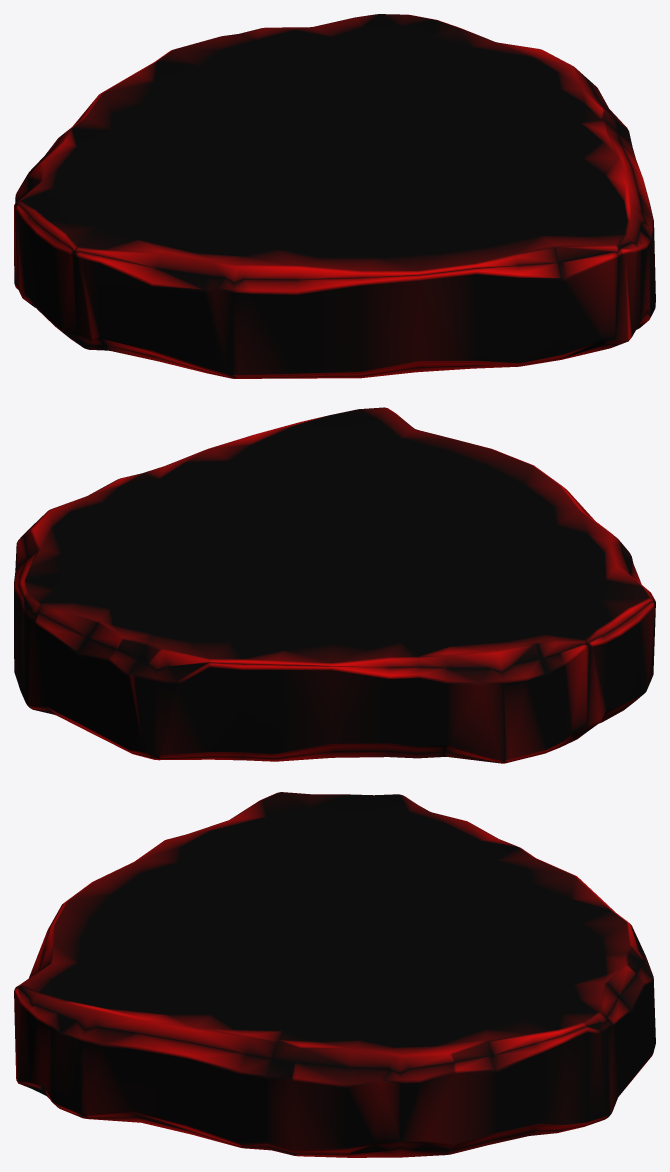
Rendered from SM_FX_Platform_02.FBX.
3 renders of one model, top to bottom at view 1: azimuth 30°, elevation 25°; view 2: azimuth 150°, elevation 25°; view 3: azimuth 270°, elevation 25°, orthographic. The views are drawn at different scales.
Parts seen in each view (by area): view 1: SM_FX_Platform_02; view 2: SM_FX_Platform_02; view 3: SM_FX_Platform_02.
Part boxes in pixels (x1,y1,x2,y2): SM_FX_Platform_02: (14,14,655,378); SM_FX_Platform_02: (14,407,655,763); SM_FX_Platform_02: (14,792,655,1157).
Size of the model in its own units: 539 by 533 by 96.
